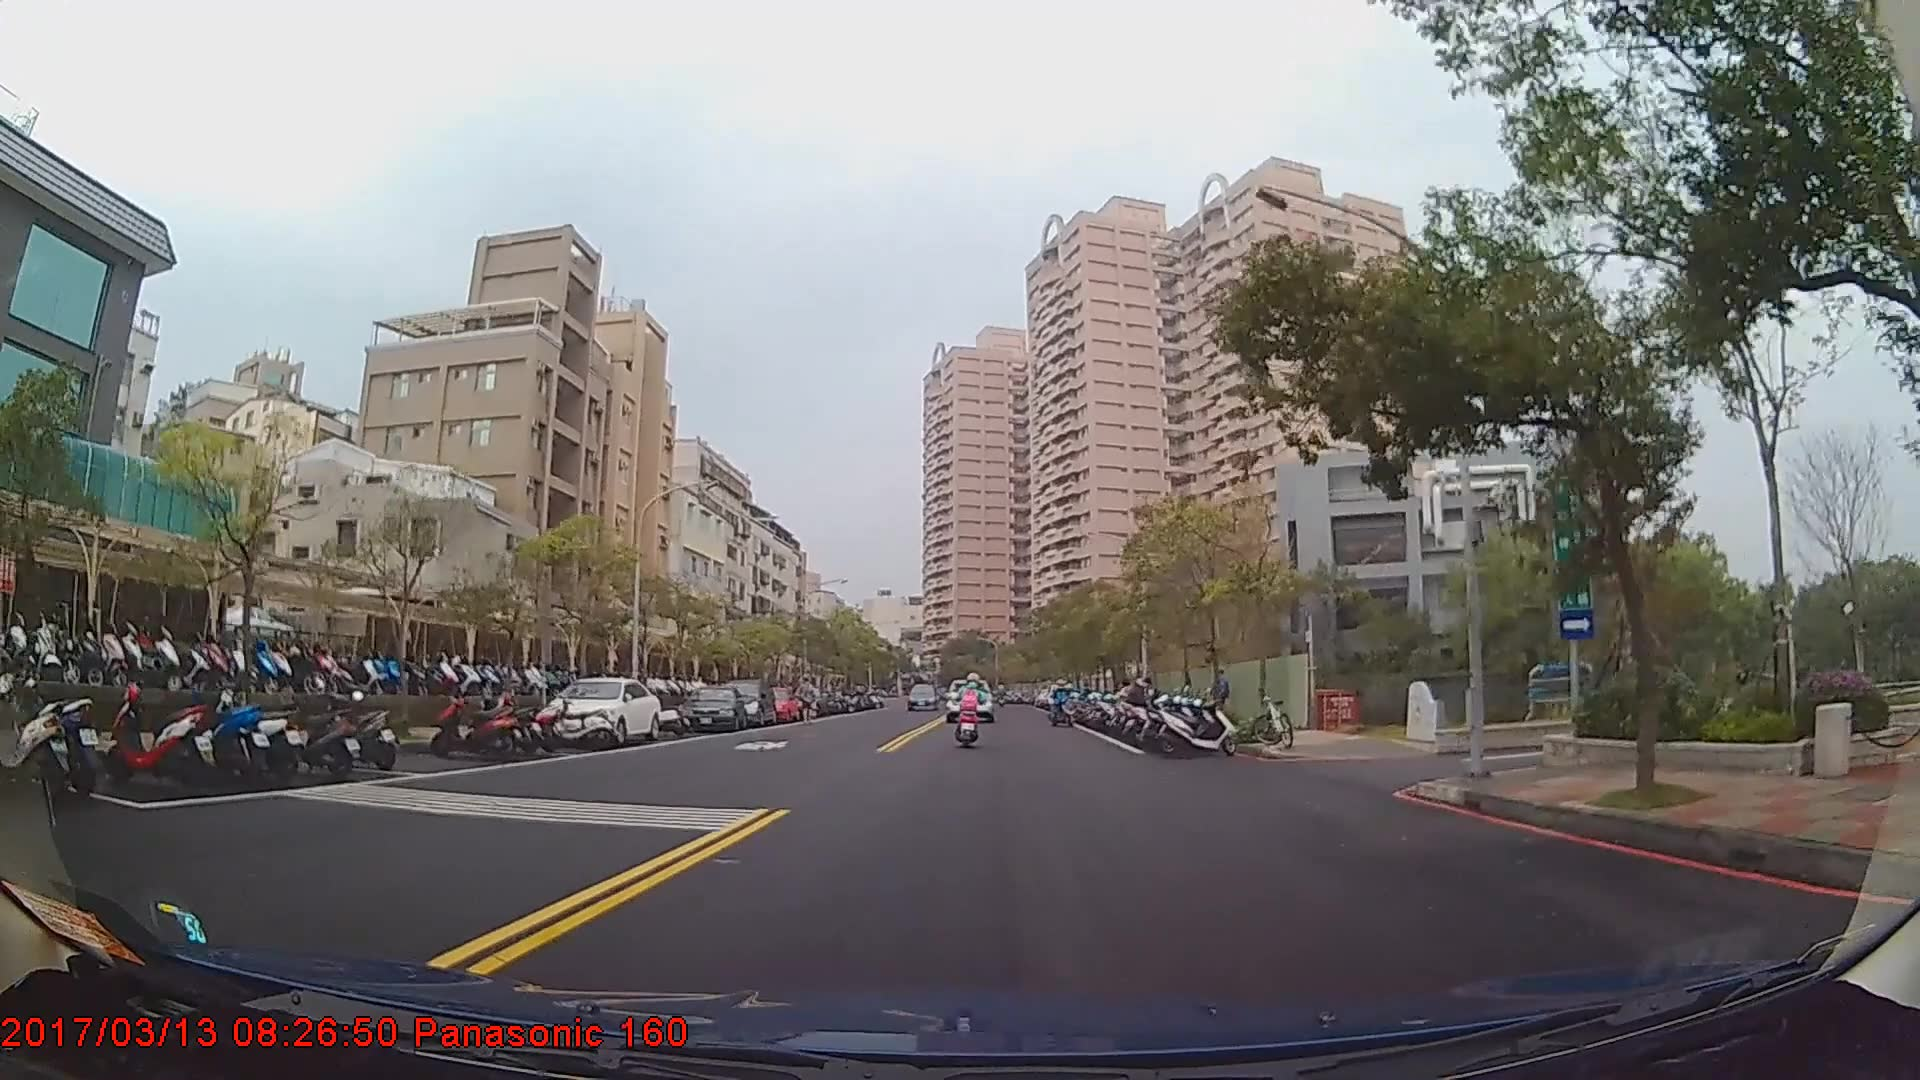pedestrian: (1210, 669, 1232, 727), (796, 680, 819, 726)
rider: (958, 671, 987, 743), (1050, 678, 1074, 726)
vehicle: (542, 675, 661, 744), (678, 684, 744, 731), (716, 678, 778, 727), (944, 678, 994, 724), (903, 684, 936, 711)
